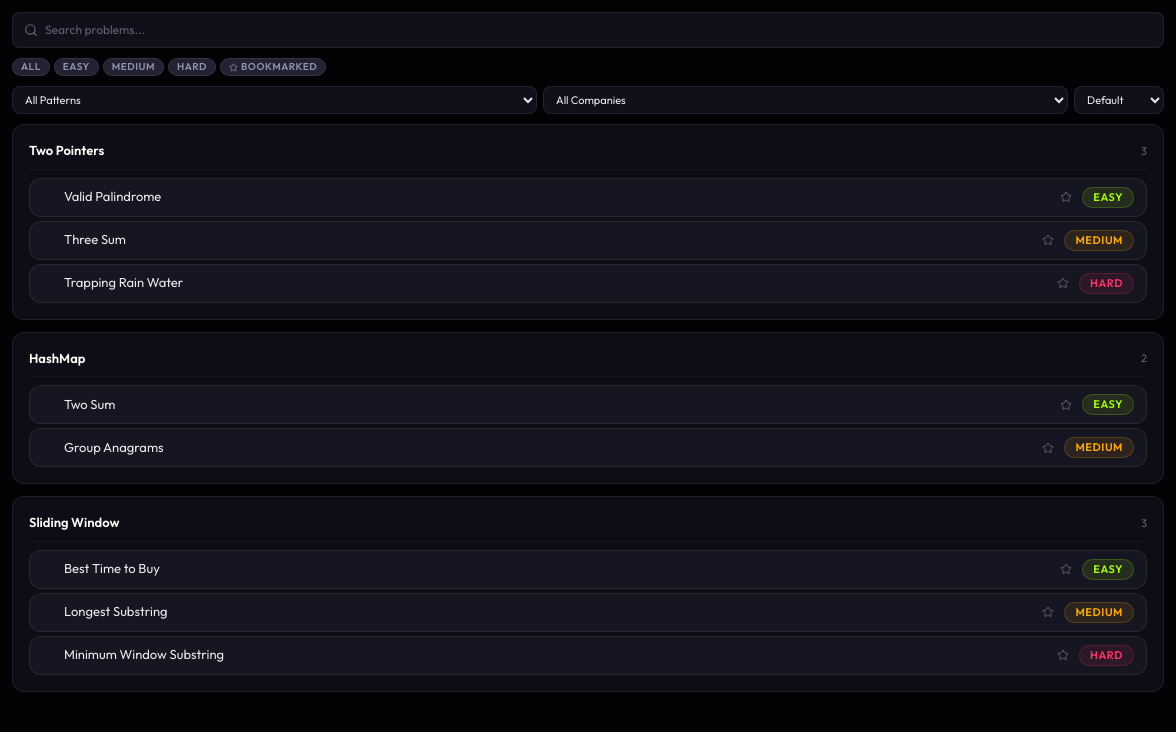
Test: ProblemList › search filtering › shows clear button when search has text and clears on click
The image size is (1176, 732).
Type "sum" into the field labelled "Search problems" at [588, 30], box [12,12,1164,48]
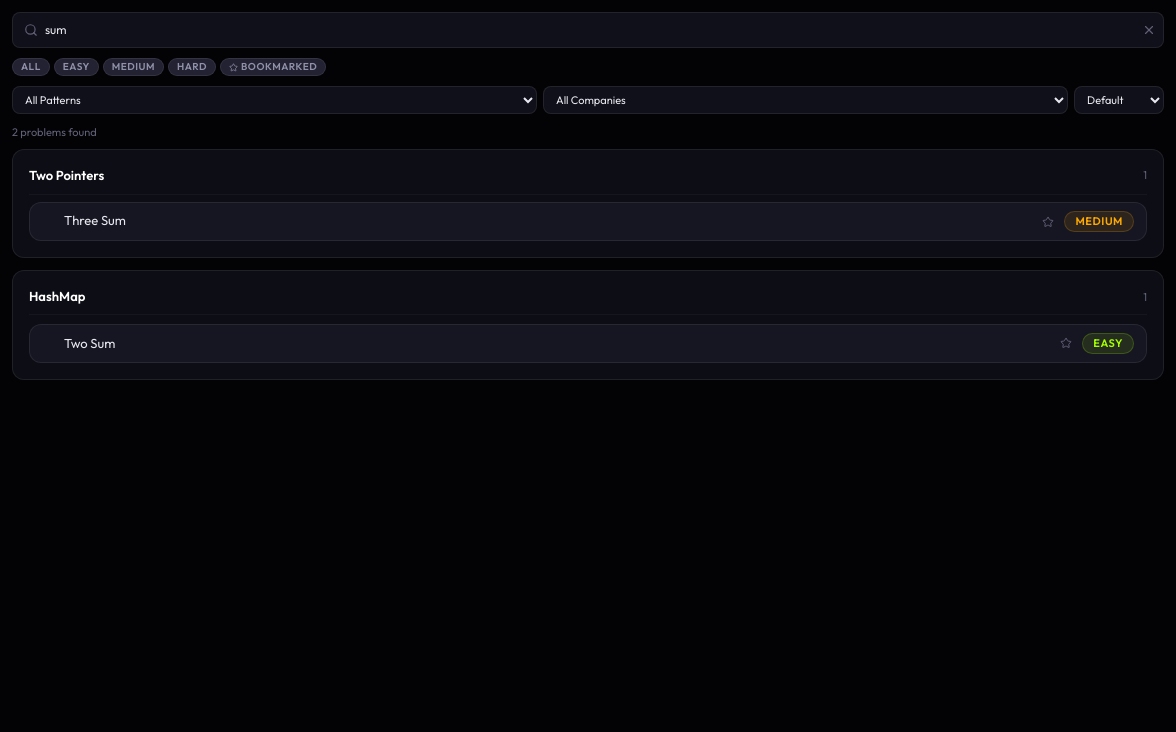
Check: the button named "Clear search" is shown
Click the button named "Clear search" at [1149, 30], box [1142,23,1156,37]
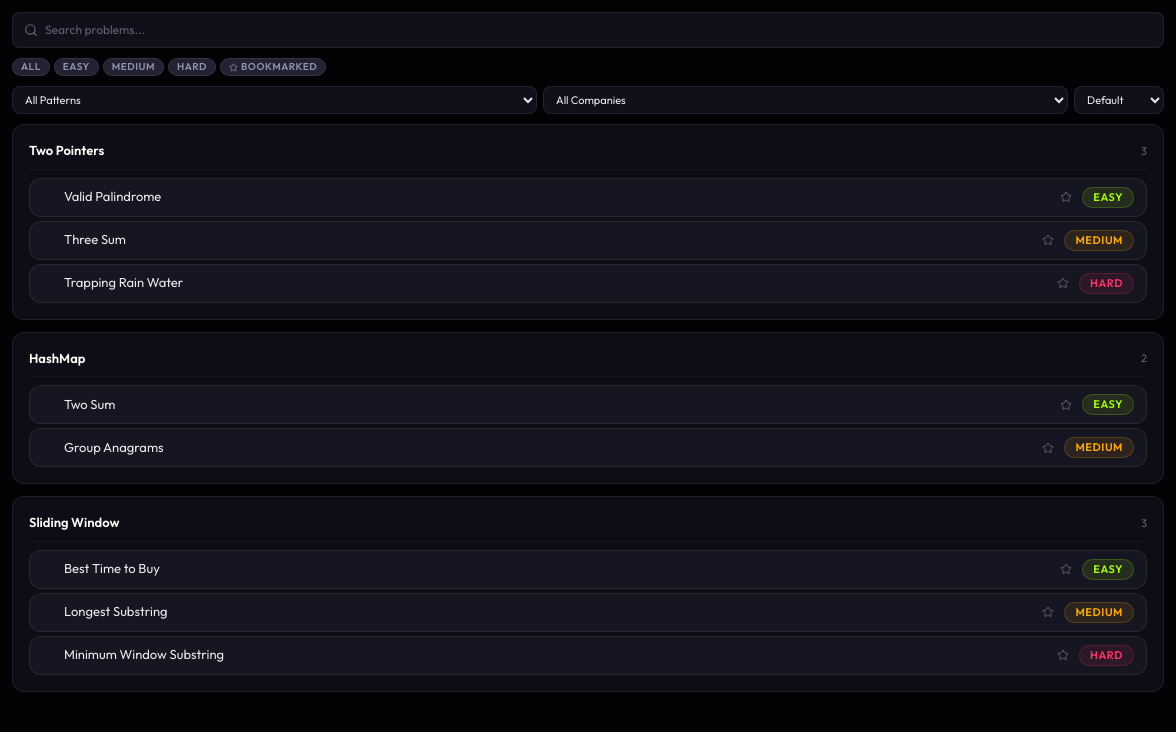
Check: the field labelled "Search problems" is empty, box [12,12,1164,48]
Check: the text "Valid Palindrome" is shown, box [64,188,161,204]
